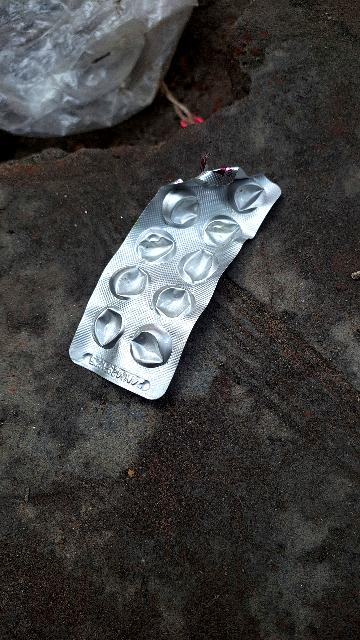medicine: (54, 112, 301, 420)
